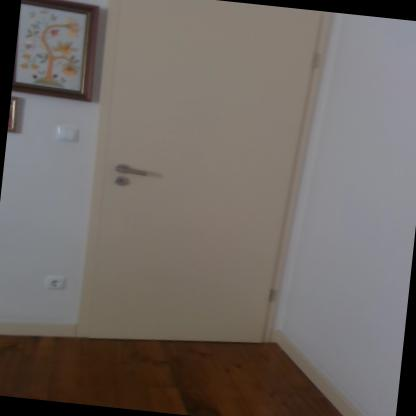closed: (64, 0, 313, 352)
